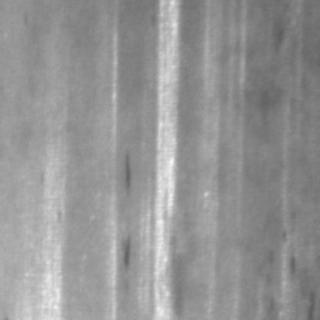inclusion: (112, 150, 134, 192), (114, 229, 132, 273)
scratches: (148, 0, 182, 316), (190, 55, 230, 275), (34, 154, 66, 316)
